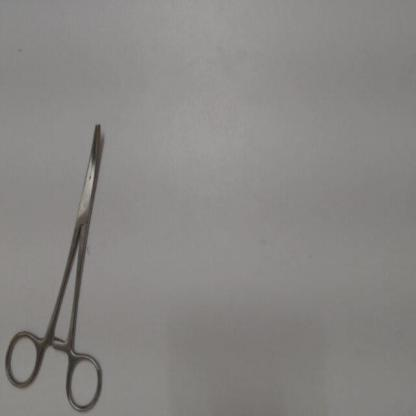Crile Artery Forceps: (2, 116, 108, 413)
